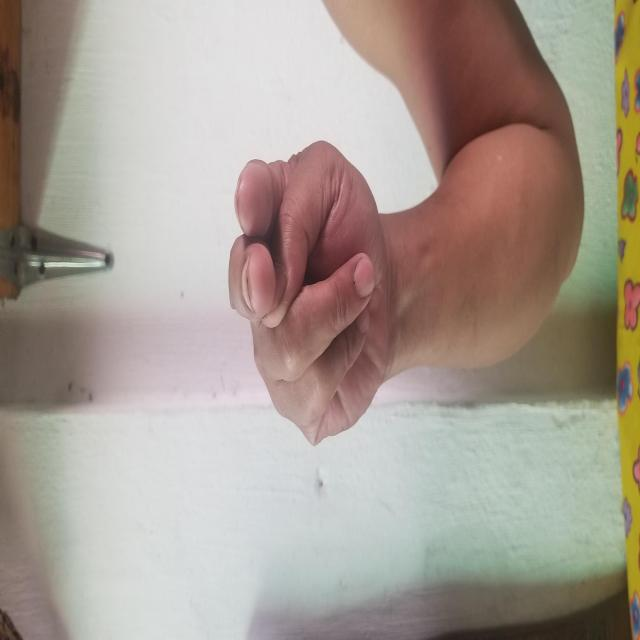N: (193, 228, 502, 385)
